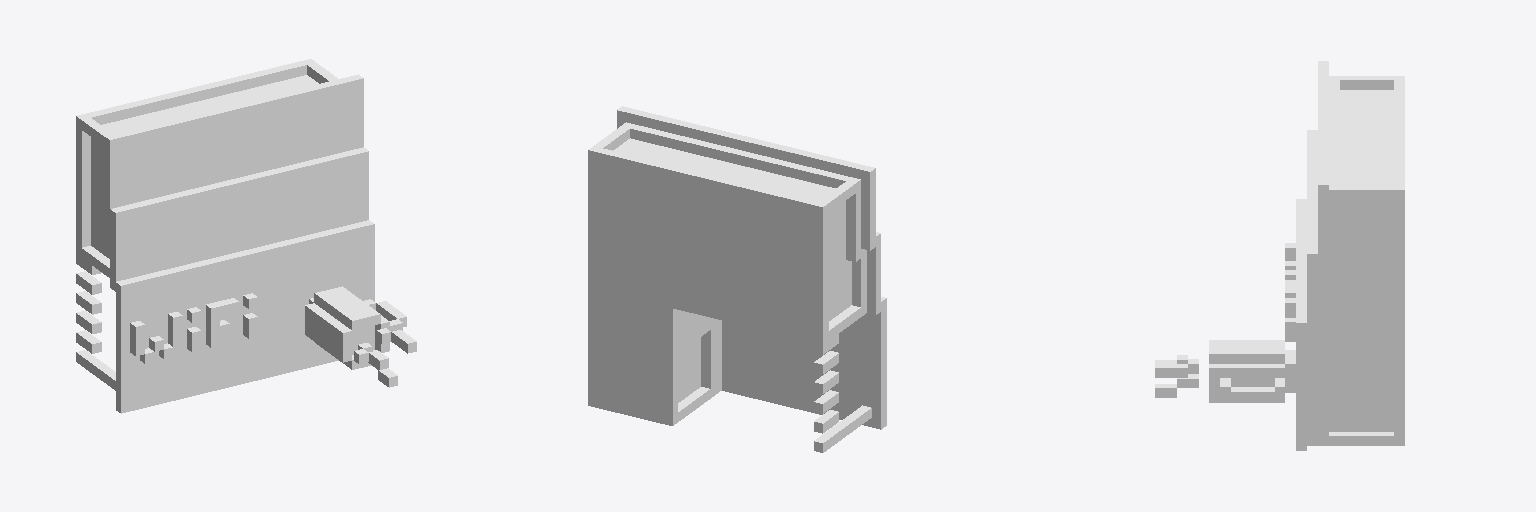
File: internet_cafe_1.obj
3 views of the same model, side by side, from view 1: azimuth 30°, elevation 25°; view 2: azimuth 150°, elevation 25°; view 3: azimuth 270°, elevation 25° (orthographic).
Visible parts, largest first — view 1: internet_cafe_1; view 2: internet_cafe_1; view 3: internet_cafe_1.
Boxes of the visible parts, box(x1,y1,x2,y2) form: internet_cafe_1: box(76, 59, 416, 413); internet_cafe_1: box(588, 106, 886, 452); internet_cafe_1: box(1155, 61, 1404, 450).
Bounding box in the file's own units: 27 × 27 × 23.